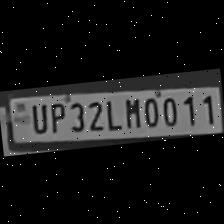0: (139, 92, 161, 128), (158, 92, 180, 128)
1: (177, 90, 199, 126), (196, 90, 218, 124)
2: (84, 96, 104, 132)
3: (65, 97, 85, 132)
L: (101, 95, 121, 131)
M: (120, 93, 142, 129)
P: (46, 97, 66, 132)
U: (26, 99, 48, 134)
